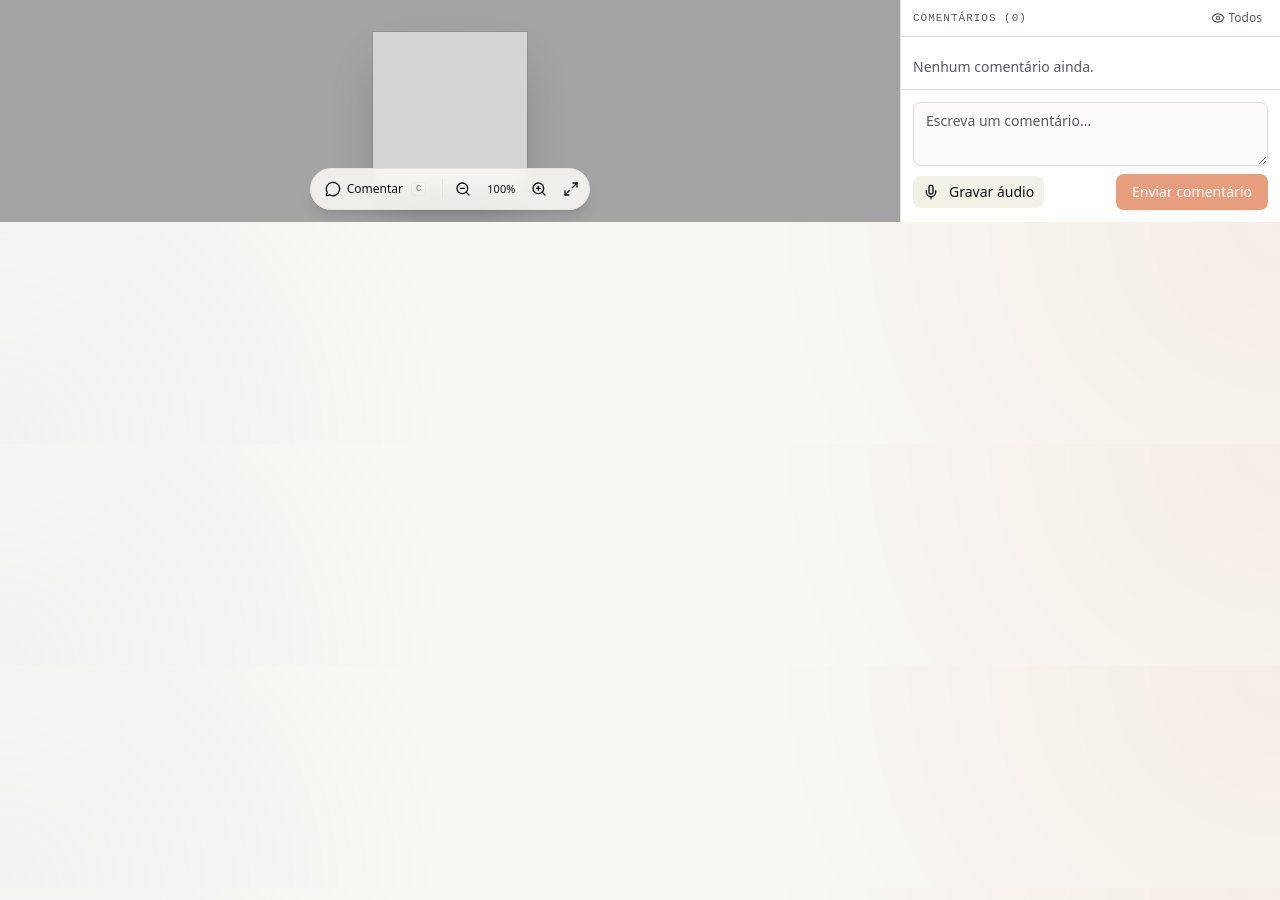
Test case: FeedbackViewer › zoom in increases percentage
Click the button named "Aumentar zoom" at (539, 189), box [525,175,553,203]
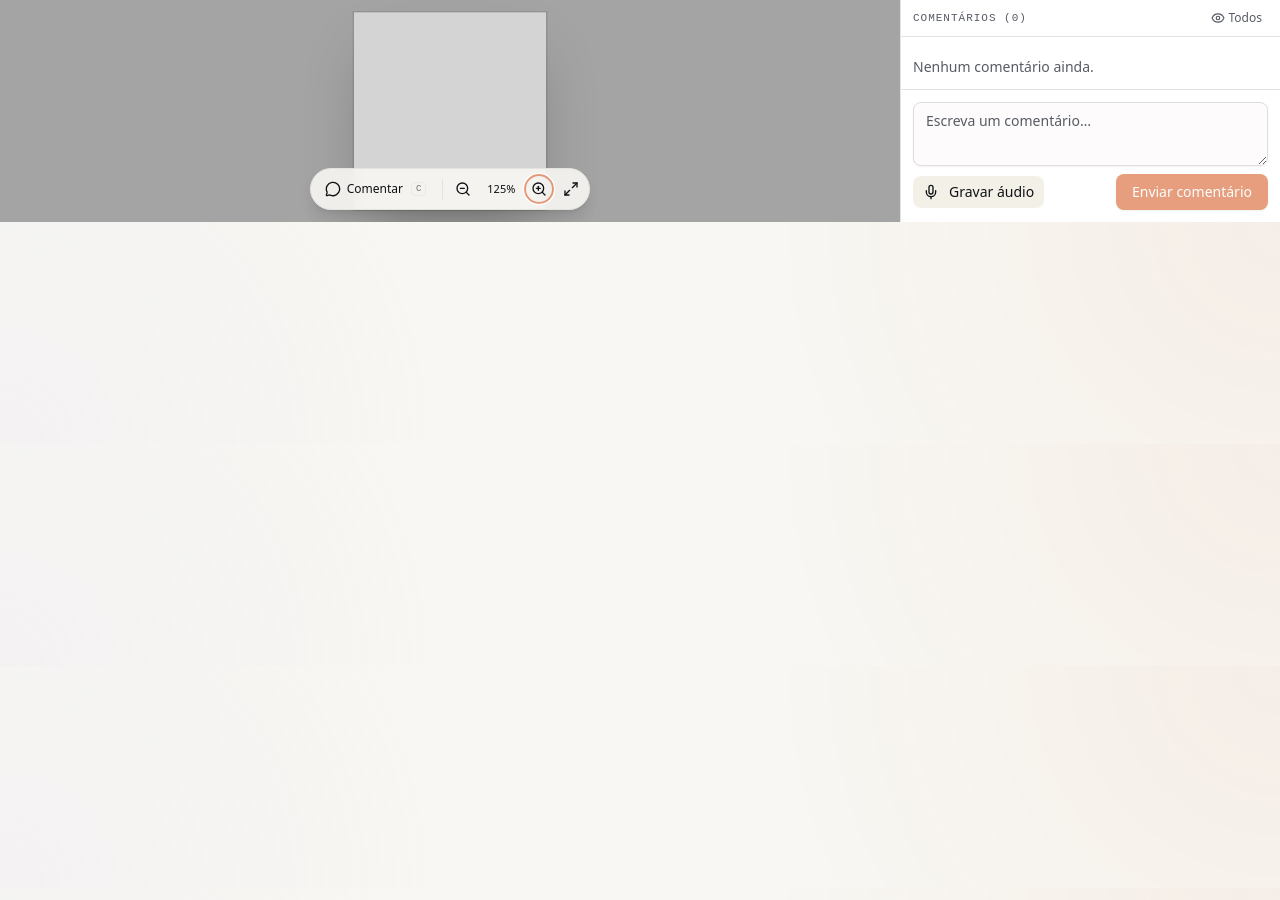
Result: the text "125%" is shown at [487,181,515,196]
